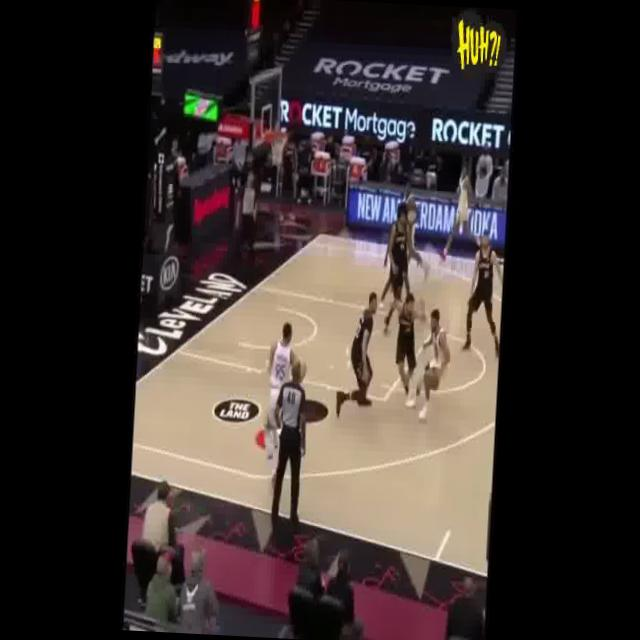ball-handler: (404, 301, 458, 428)
